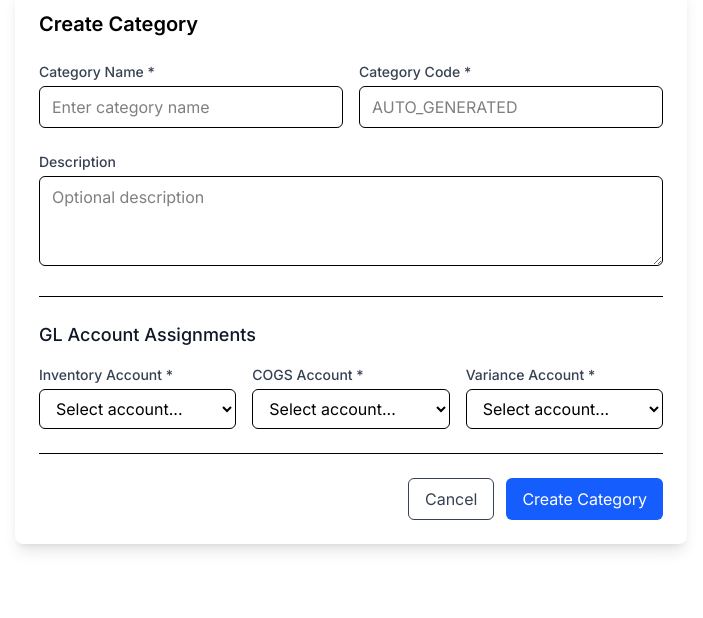
Test: CategoryForm › Create Mode › should validate code uniqueness
In the field labelled "Category Name *": (191, 107) [39, 86, 343, 128], type "Test Category"
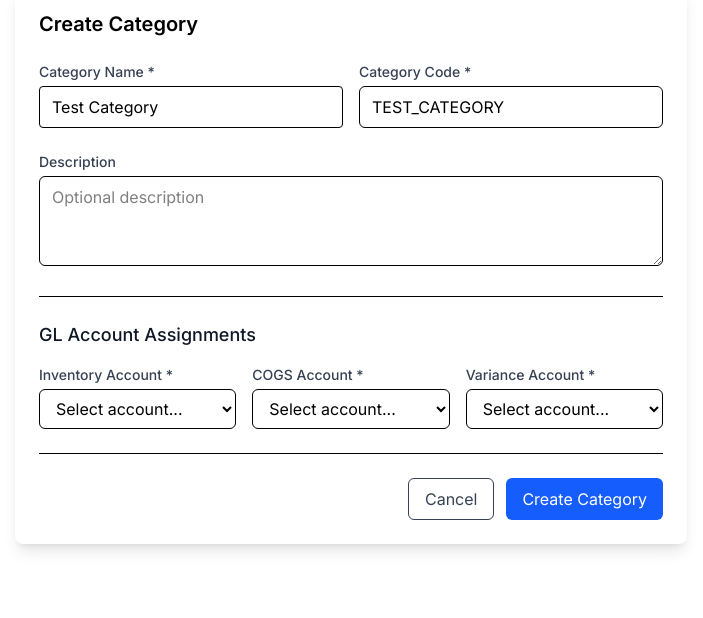
Replace the text in the field labelled "Category Code *" with "EXISTING": (511, 107) [359, 86, 663, 128]
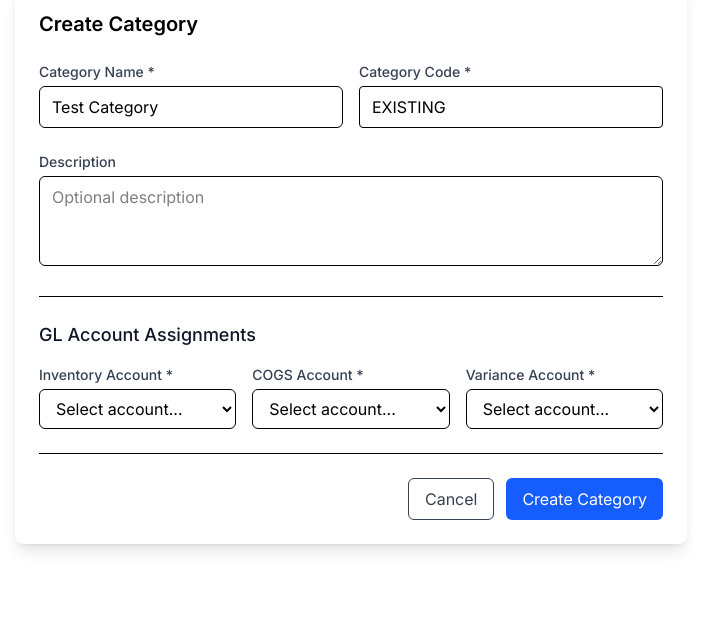
Click the button "Create Category": click(585, 499) [506, 478, 663, 520]
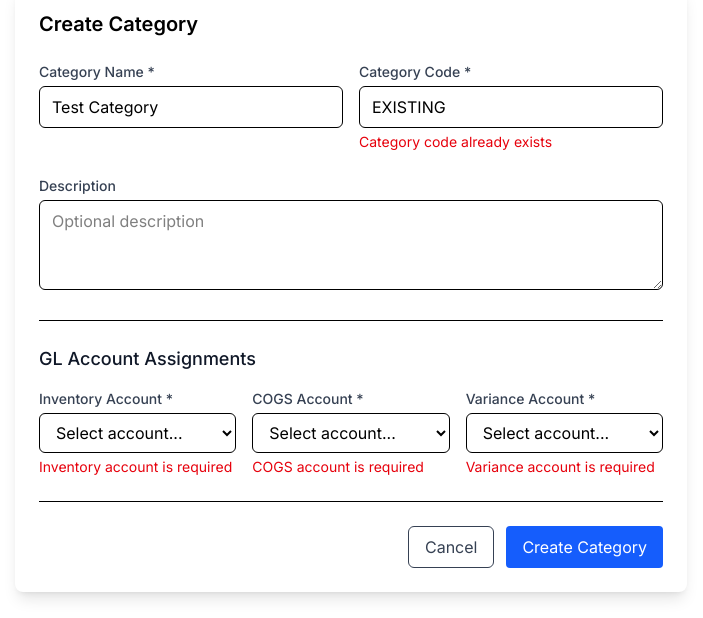
Now the text "Category code already exists" is shown, box [359, 133, 552, 150]
